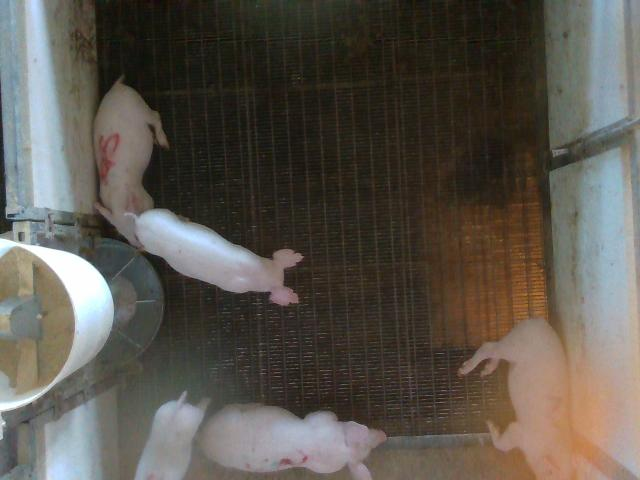pig-2: (459, 319, 572, 479)
pig-3: (198, 404, 385, 479)
pig-5: (94, 76, 169, 247)
